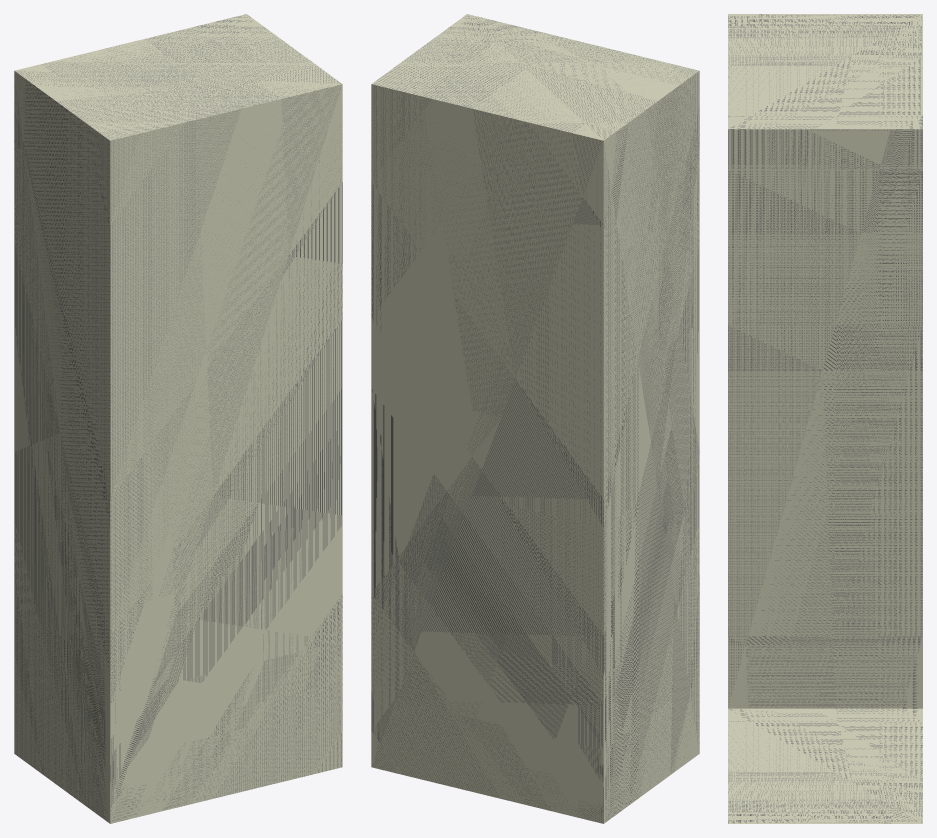
The model's file is original-81.obj.
3 views of the same model, side by side, from view 1: azimuth 30°, elevation 25°; view 2: azimuth 150°, elevation 25°; view 3: azimuth 270°, elevation 25° (orthographic).
Visible parts, largest first — view 1: mesh52/mesh52-geometry/material_8/component_0#mesh52-geometry; view 2: mesh52/mesh52-geometry/material_8/component_0#mesh52-geometry; view 3: mesh52/mesh52-geometry/material_8/component_0#mesh52-geometry.
Boxes of the visible parts, x1=… form: mesh52/mesh52-geometry/material_8/component_0#mesh52-geometry: x1=14, y1=14, x2=342, y2=823; mesh52/mesh52-geometry/material_8/component_0#mesh52-geometry: x1=371, y1=14, x2=699, y2=823; mesh52/mesh52-geometry/material_8/component_0#mesh52-geometry: x1=728, y1=14, x2=922, y2=823.
Bounding box in the file's own units: 0.0397 × 0.1115 × 0.0284.
